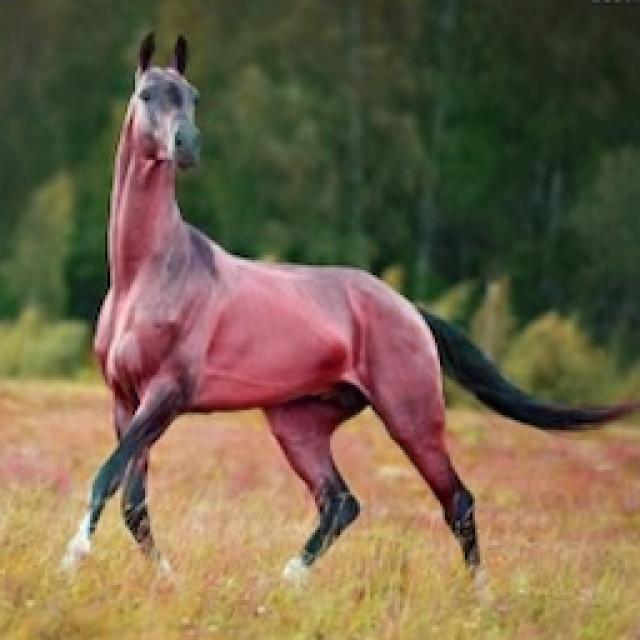Horse: (52, 25, 638, 590)
